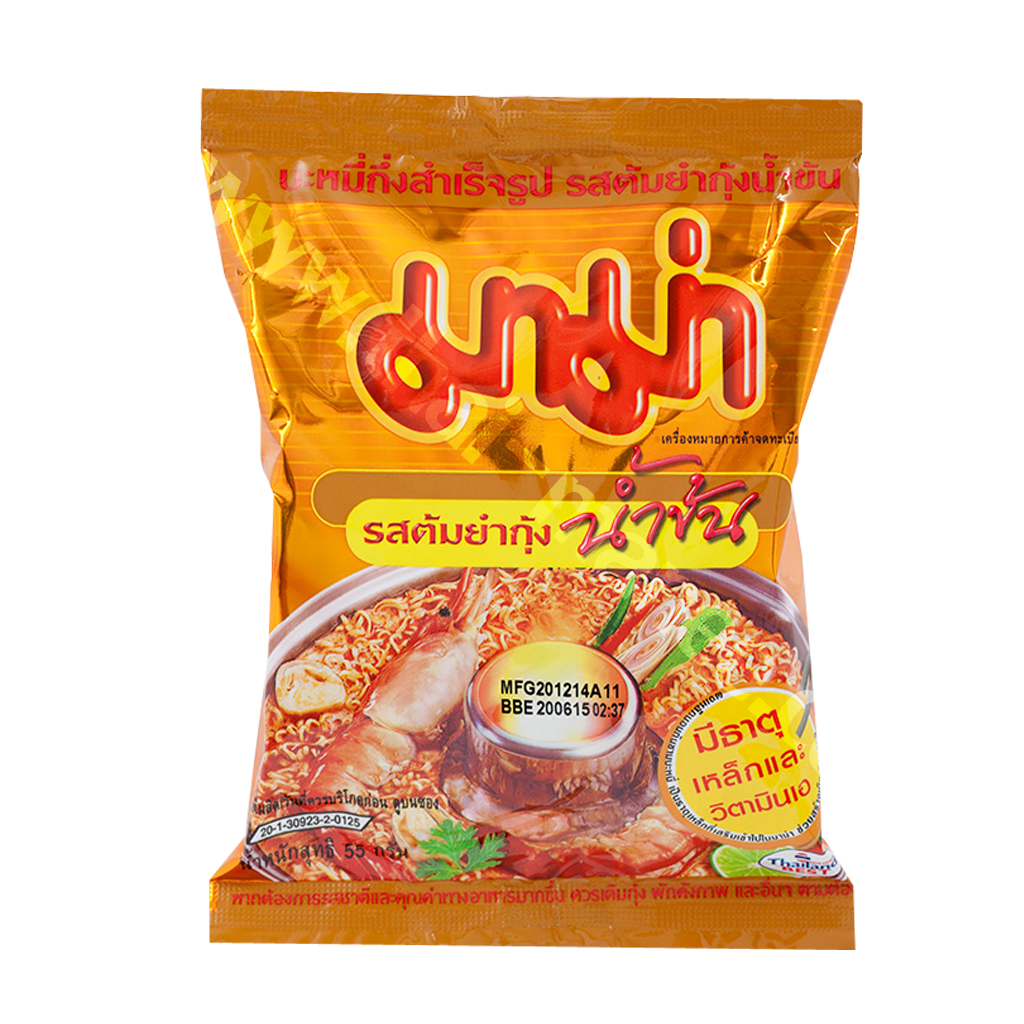Snack: (179, 78, 870, 964)
